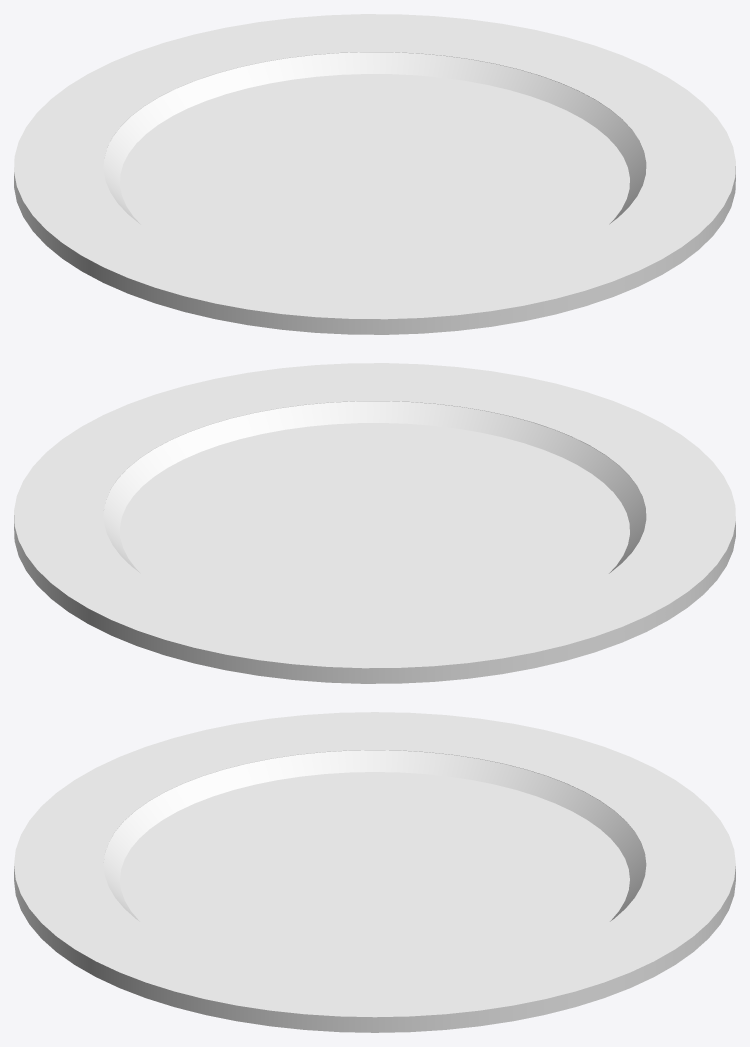
Rendered from plate-white.gltf.
3 views of the same model, one above another, from view 1: azimuth 30°, elevation 25°; view 2: azimuth 150°, elevation 25°; view 3: azimuth 270°, elevation 25° (orthographic).
Parts seen in each view (by area): view 1: Cylinder; view 2: Cylinder; view 3: Cylinder.
Boxes of the visible parts, x1,y1,x2,y2 form: Cylinder: [14, 14, 735, 334]; Cylinder: [14, 363, 735, 683]; Cylinder: [14, 712, 735, 1032].
Size of the model in its own units: 2 by 0.0731 by 2.
Materials: 1 (1 with a texture image).
